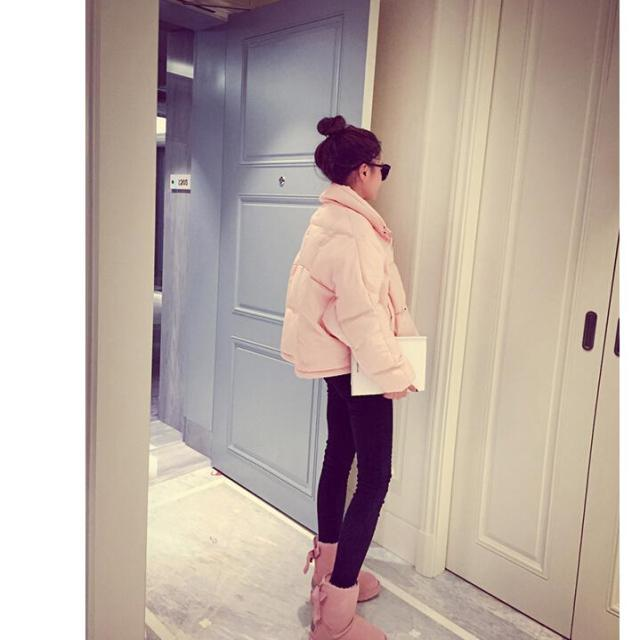long sleeve top: (281, 183, 425, 394)
trousers: (322, 348, 395, 592)
